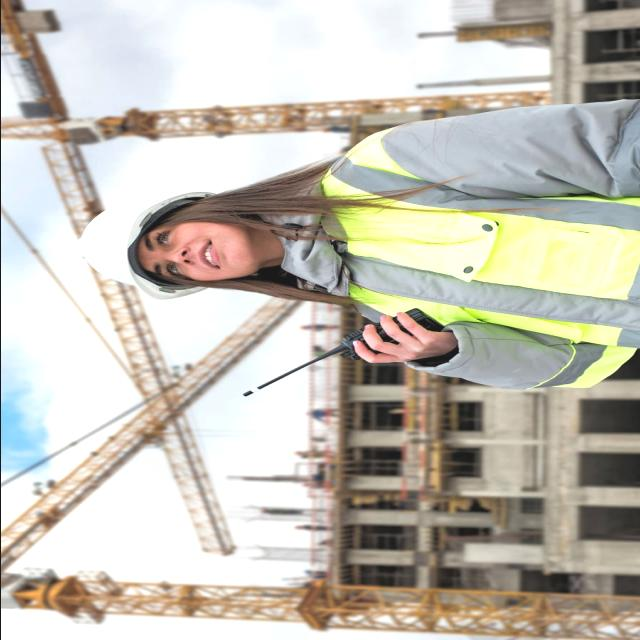Hard Hat: (70, 188, 220, 304)
Reflective Vest: (309, 82, 640, 392)
